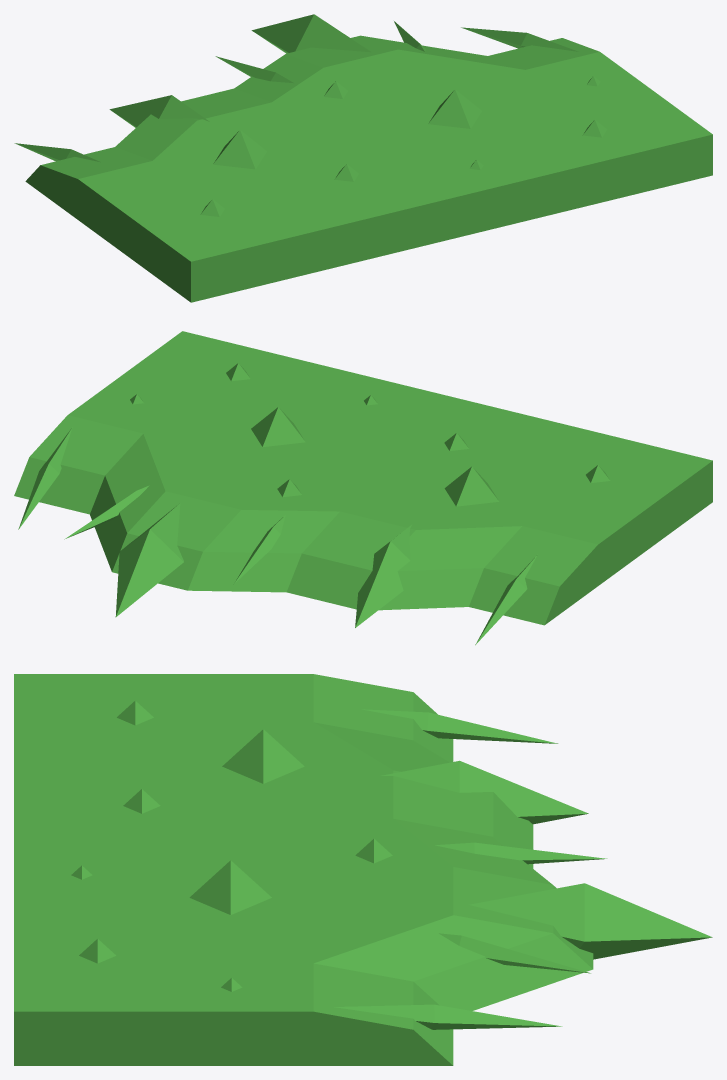
The model's file is Floor-Outdoor-4x2x1-Grass-Edge-Ragged-Convex.FBX.
3 views of the same model, one above another, from view 1: azimuth 30°, elevation 25°; view 2: azimuth 150°, elevation 25°; view 3: azimuth 270°, elevation 25° (orthographic). The views are drawn at different scales.
Visible parts, largest first — view 1: Floor-Outdoor-4x2x1-Grass-Edge-Ragged-Convex; view 2: Floor-Outdoor-4x2x1-Grass-Edge-Ragged-Convex; view 3: Floor-Outdoor-4x2x1-Grass-Edge-Ragged-Convex.
Part boxes in pixels (left/top/right/bottom): Floor-Outdoor-4x2x1-Grass-Edge-Ragged-Convex: left=14, top=14, right=712, bottom=302; Floor-Outdoor-4x2x1-Grass-Edge-Ragged-Convex: left=14, top=331, right=712, bottom=645; Floor-Outdoor-4x2x1-Grass-Edge-Ragged-Convex: left=14, top=674, right=712, bottom=1065.
Bounding box in the file's own units: 40 × 5.93 × 35.
